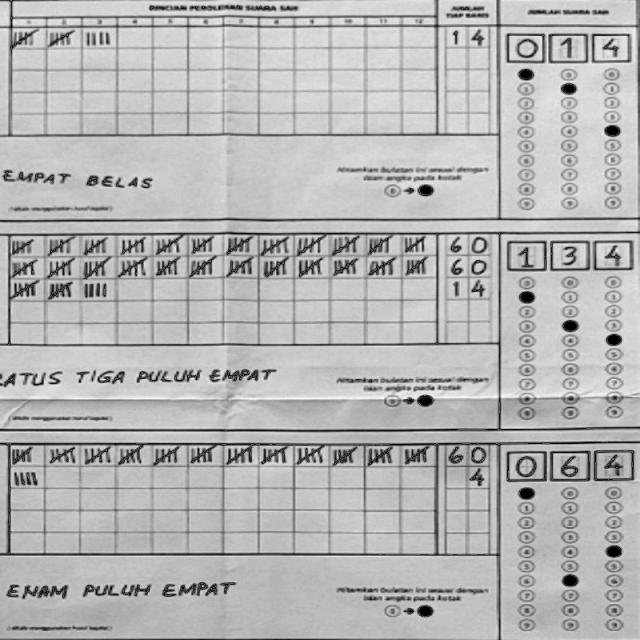Suara: (502, 444, 634, 483), (504, 26, 634, 64), (500, 235, 632, 272)
